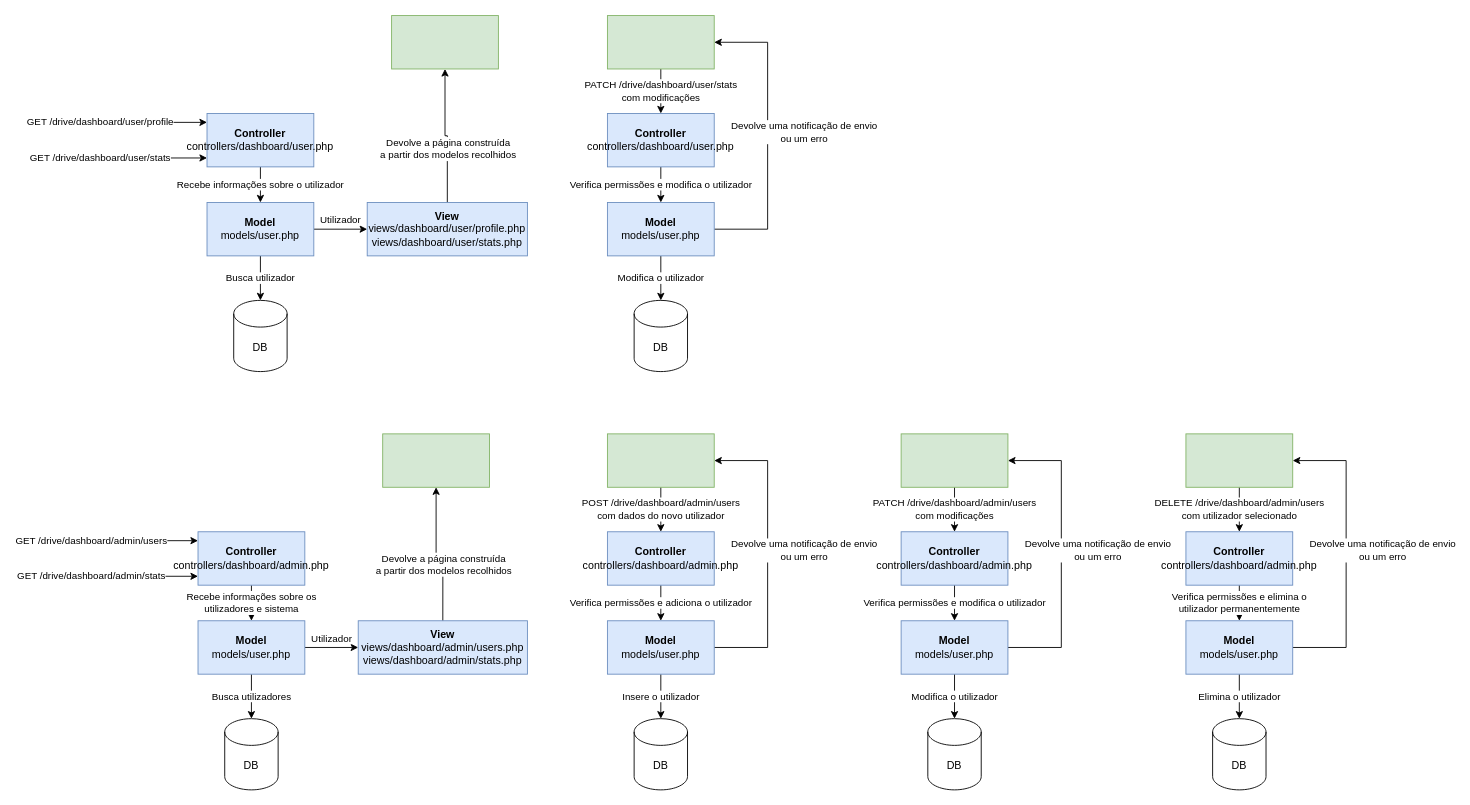
Image size: 1470x805. Some labels were removed from this diagram. The shapes that lost their labels are listed below. From the top down, each one's centre as x and y in pixels, then its label:
the point at 444,42: Páginas de painel de controlo de utilizador
the point at 660,42: Modifica o utilizador (renomear, mudar password, etc.)
the point at 436,460: Páginas de painel de controlo de administrador
the point at 660,460: Formulário de utilizador
the point at 954,460: Modifica o utilizador (renomear, alterar quota, etc.)
the point at 1239,460: Elimina um utilizador
